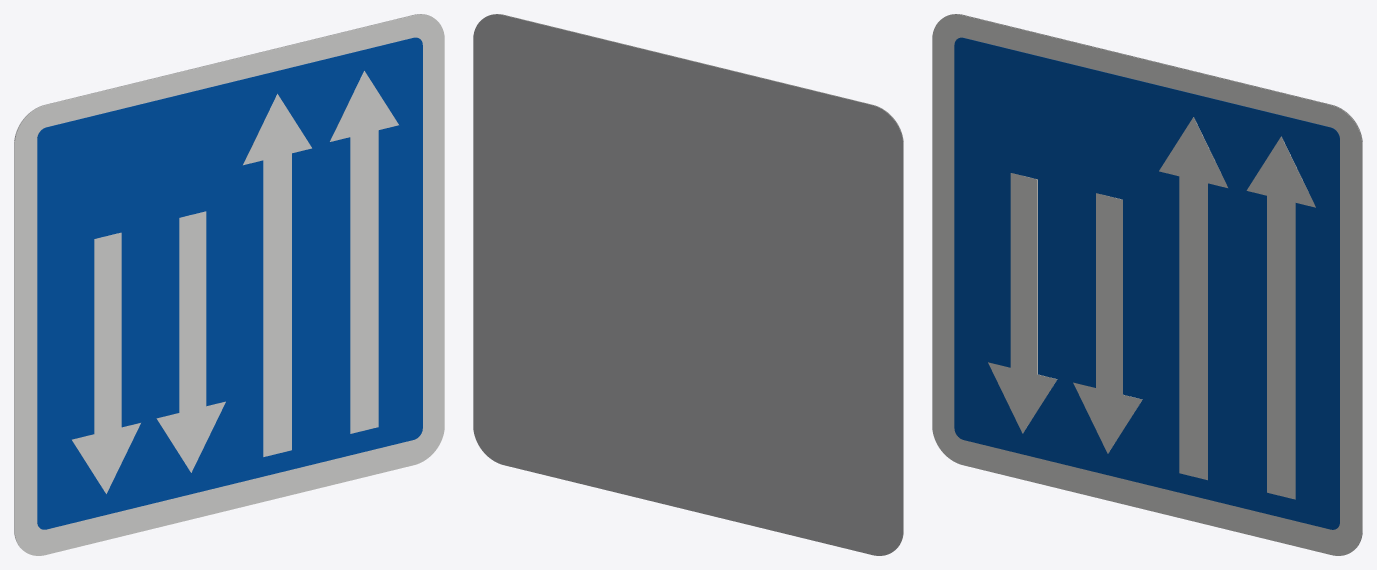
3 views of the same model, side by side, from view 1: azimuth 30°, elevation 25°; view 2: azimuth 150°, elevation 25°; view 3: azimuth 330°, elevation 25° (orthographic).
Visible parts, largest first — view 1: C29a_p01, C29a_p00, C29a_p02, C29a_p05, C29a_p03, C29a_p04, C29a_dos; view 2: C29a_dos, C29a_p00; view 3: C29a_p01, C29a_p00, C29a_p02, C29a_p05, C29a_p04, C29a_p03, C29a_dos.
Boxes of the visible parts, x1,y1,x2,y2 form: C29a_p01: [37, 37, 422, 529]; C29a_p00: [14, 14, 444, 555]; C29a_p02: [330, 71, 398, 433]; C29a_p05: [243, 94, 311, 456]; C29a_p03: [156, 211, 225, 472]; C29a_p04: [72, 232, 140, 493]; C29a_dos: [14, 14, 431, 547]; C29a_dos: [473, 14, 903, 555]; C29a_p00: [486, 14, 903, 547]; C29a_p01: [954, 37, 1339, 529]; C29a_p00: [932, 14, 1362, 555]; C29a_p02: [1246, 136, 1315, 499]; C29a_p05: [1159, 117, 1227, 480]; C29a_p04: [988, 173, 1057, 433]; C29a_p03: [1073, 193, 1142, 453]; C29a_dos: [945, 14, 1362, 547].
Bounding box in the file's own units: 0.7 × 0.6999 × 0.0039.
